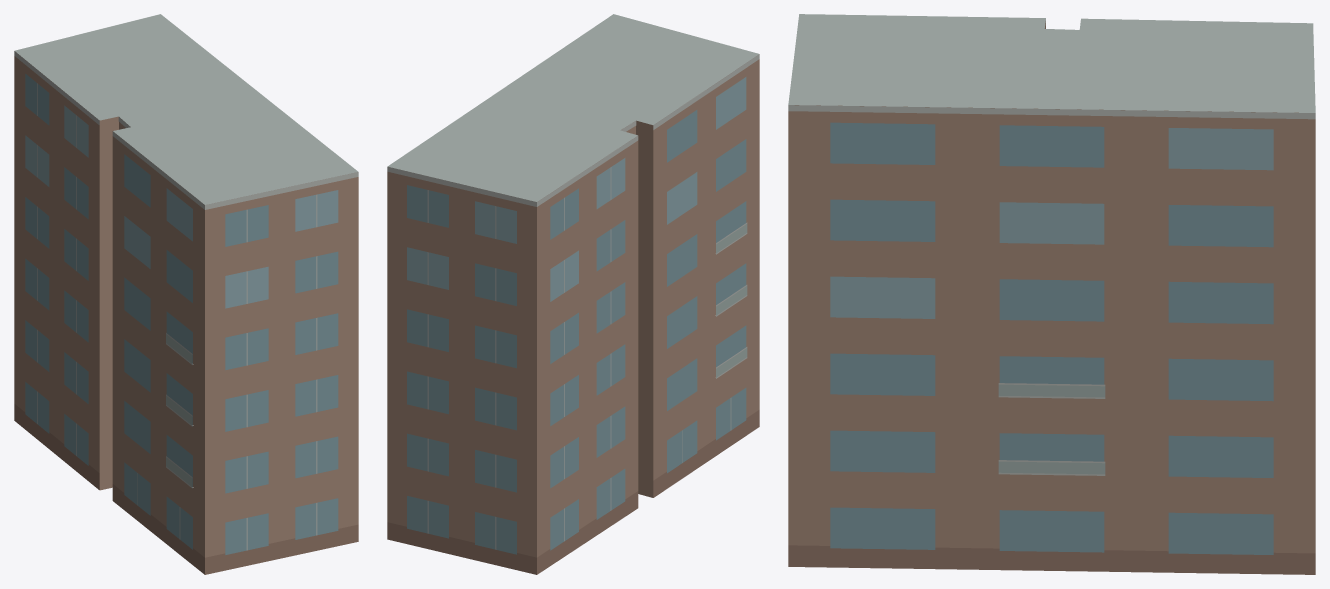
The model's file is survey-upis-32569300.glb.
The picture shows the model from 3 angles, left to right: view 1: azimuth 30°, elevation 25°; view 2: azimuth 150°, elevation 25°; view 3: azimuth 270°, elevation 25°; orthographic projection. The views are drawn at different scales.
Visible parts, largest first — view 1: survey-upis-32569300.tmp; view 2: survey-upis-32569300.tmp; view 3: survey-upis-32569300.tmp.
Part boxes in pixels (left/top/right/bottom): survey-upis-32569300.tmp: left=14, top=14, right=358, bottom=574; survey-upis-32569300.tmp: left=387, top=14, right=759, bottom=574; survey-upis-32569300.tmp: left=788, top=14, right=1315, bottom=574.
Bounding box in the file's own units: 8.33 × 18.1 × 18.75.
